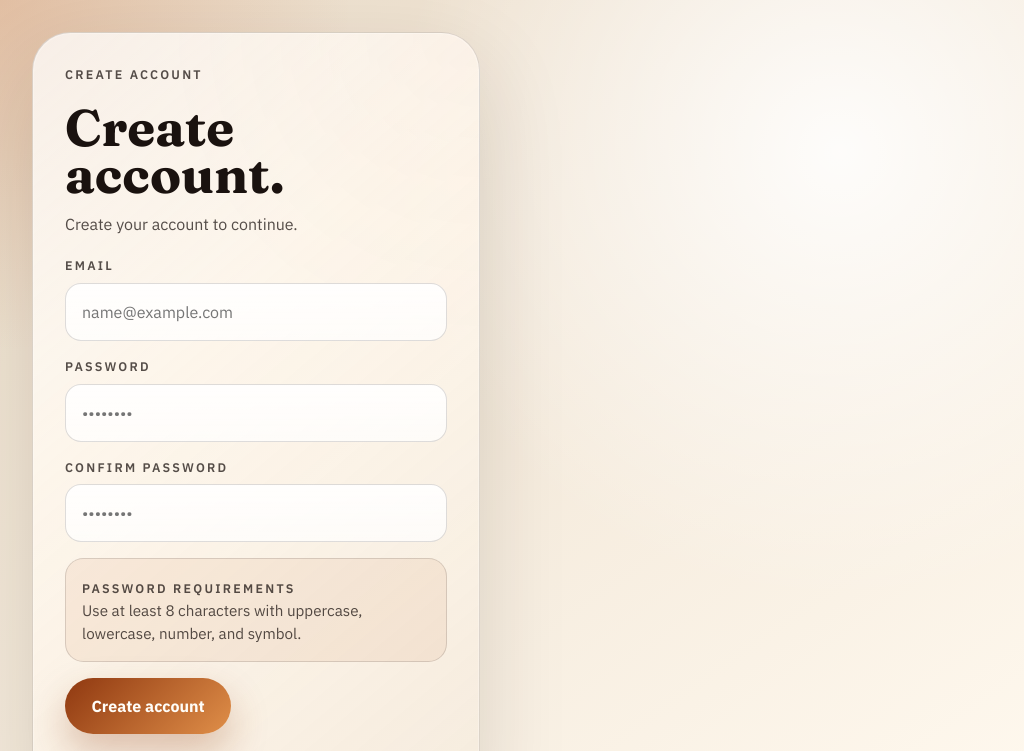
it: auth feature › auth register blocks mismatched password confirmation before submit
Check: the button "Create account" is shown, box [65,678,231,734]
Step 1. Type "mismatch@example.com" into the field labelled "Email" → (256, 312), box [65,283,447,341]
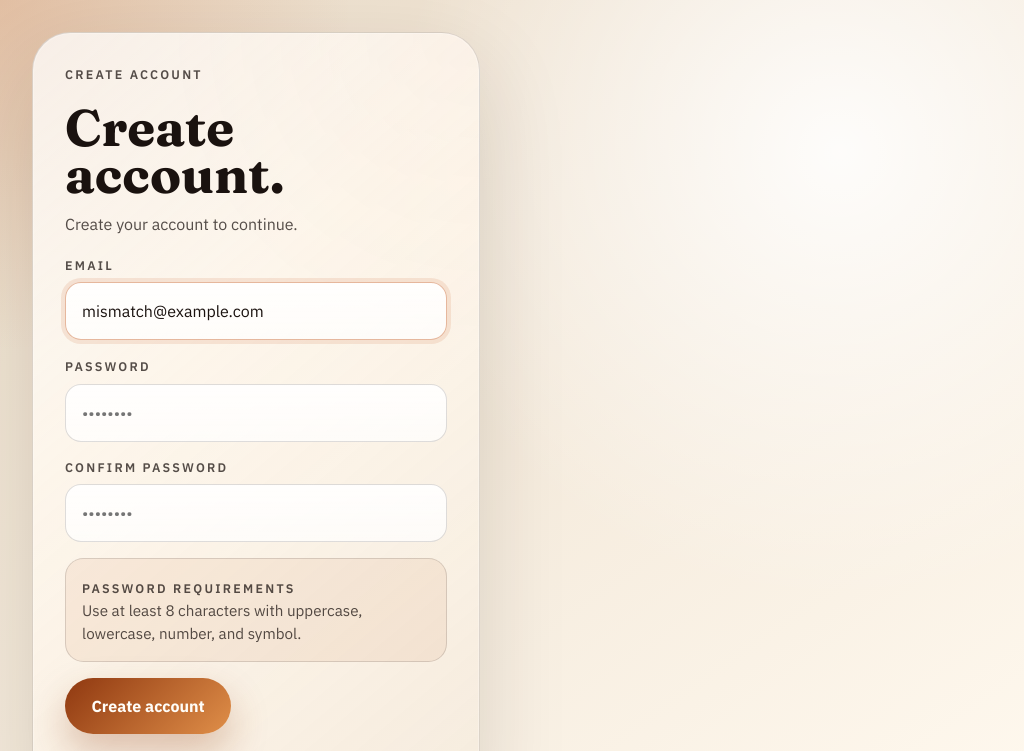
Step 2. Type "Harness1!" into the password field labelled "Password" → (256, 413), box [65,384,447,442]
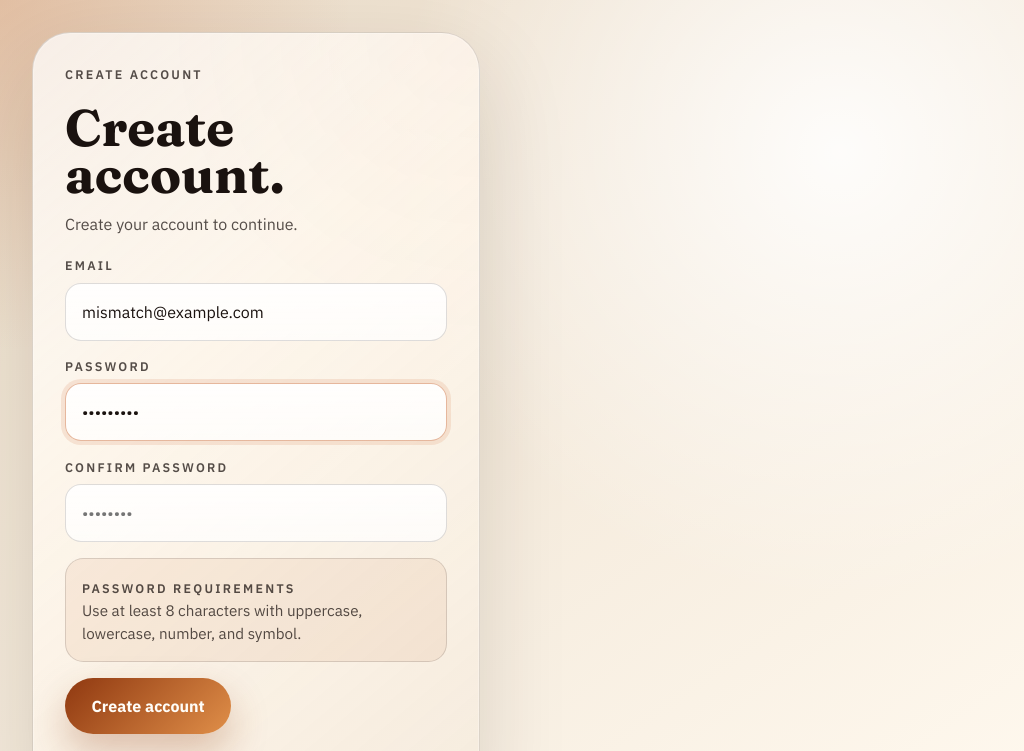
Step 3. Type "Harness2!" into the password field labelled "Confirm password" → (256, 514), box [65,484,447,542]
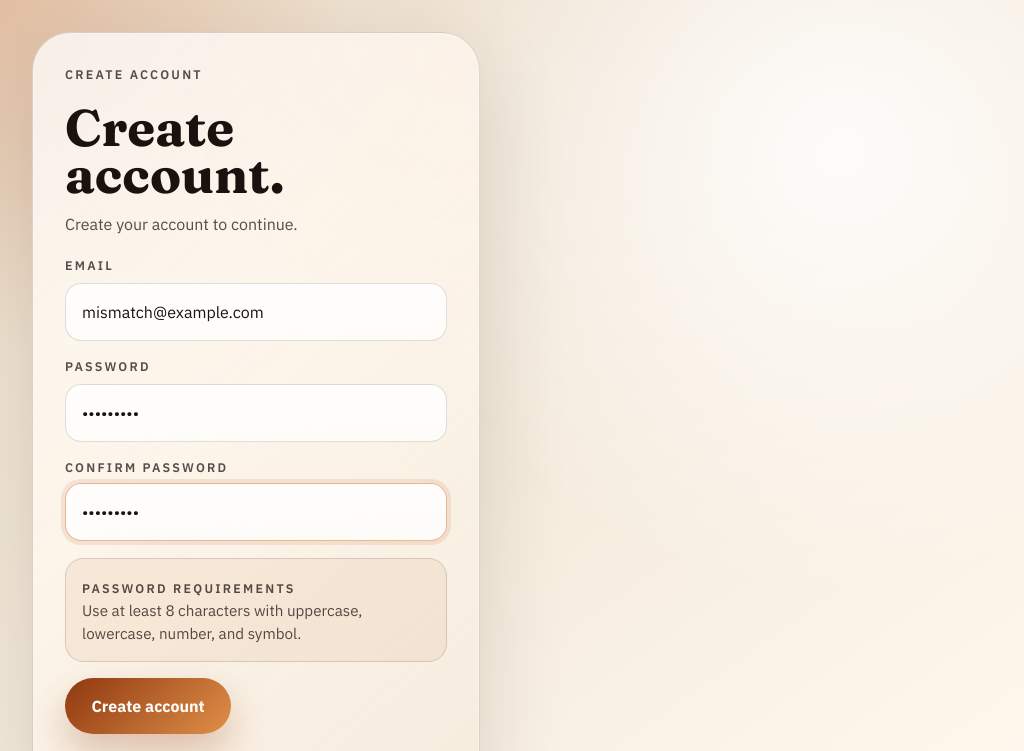
Step 4. Click the button "Create account" → (148, 706), box [65,678,231,734]
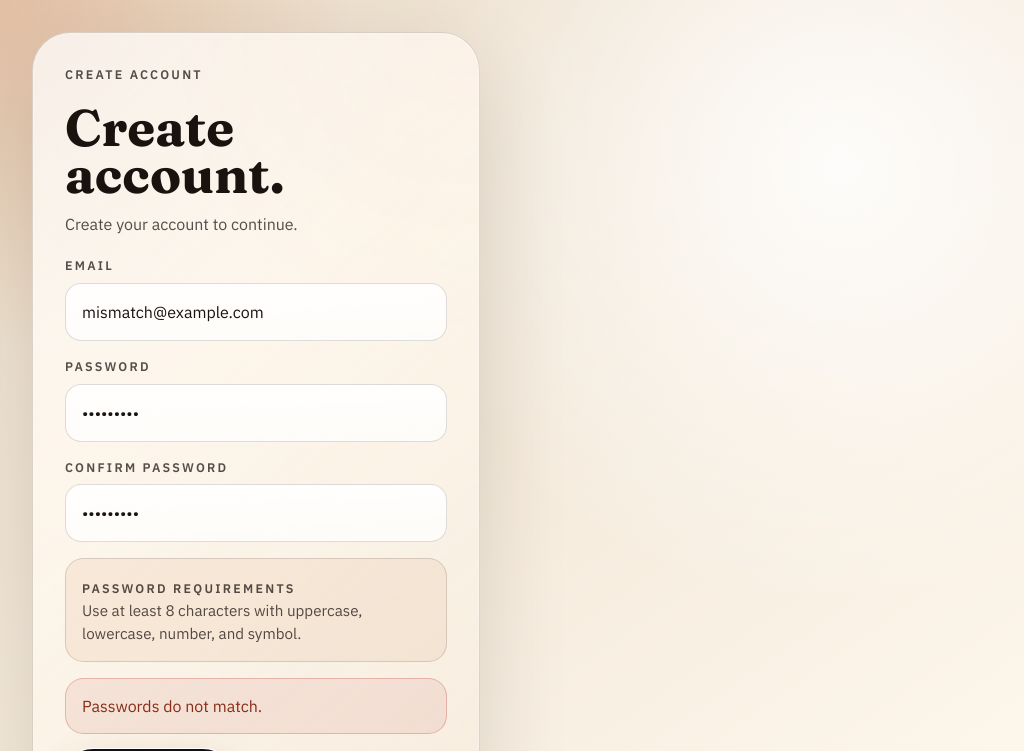
Check: the message shows "Passwords do not match", box [82,696,262,716]
